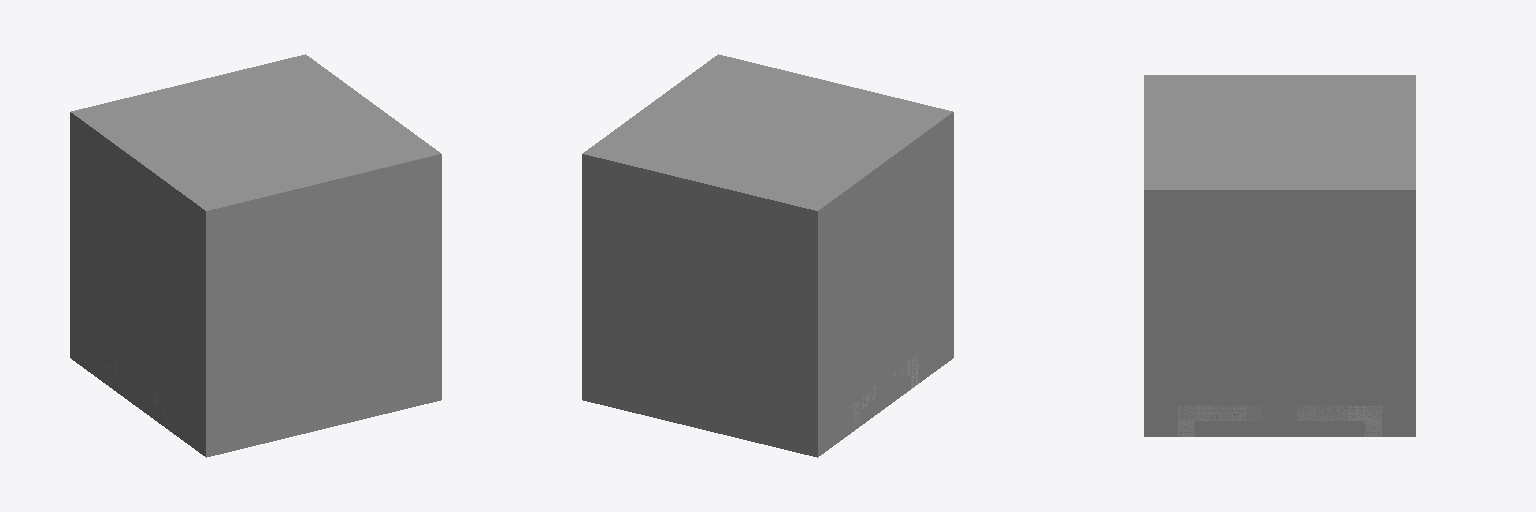
3 renders of one model, left to right at view 1: azimuth 30°, elevation 25°; view 2: azimuth 150°, elevation 25°; view 3: azimuth 270°, elevation 25°, orthographic.
Parts seen in each view (by area): view 1: Minecraft_Block.001_Cube.002; view 2: Minecraft_Block.001_Cube.002; view 3: Minecraft_Block.001_Cube.002, Holder.
Part boxes in pixels (x1,y1,x2,y2): Minecraft_Block.001_Cube.002: (70,54,441,457); Minecraft_Block.001_Cube.002: (582,54,953,457); Minecraft_Block.001_Cube.002: (1144,75,1415,436); Holder: (1178,406,1381,436).
Bounding box in the file's own units: 1 × 1 × 1.
Materials: 2 (1 with a texture image).